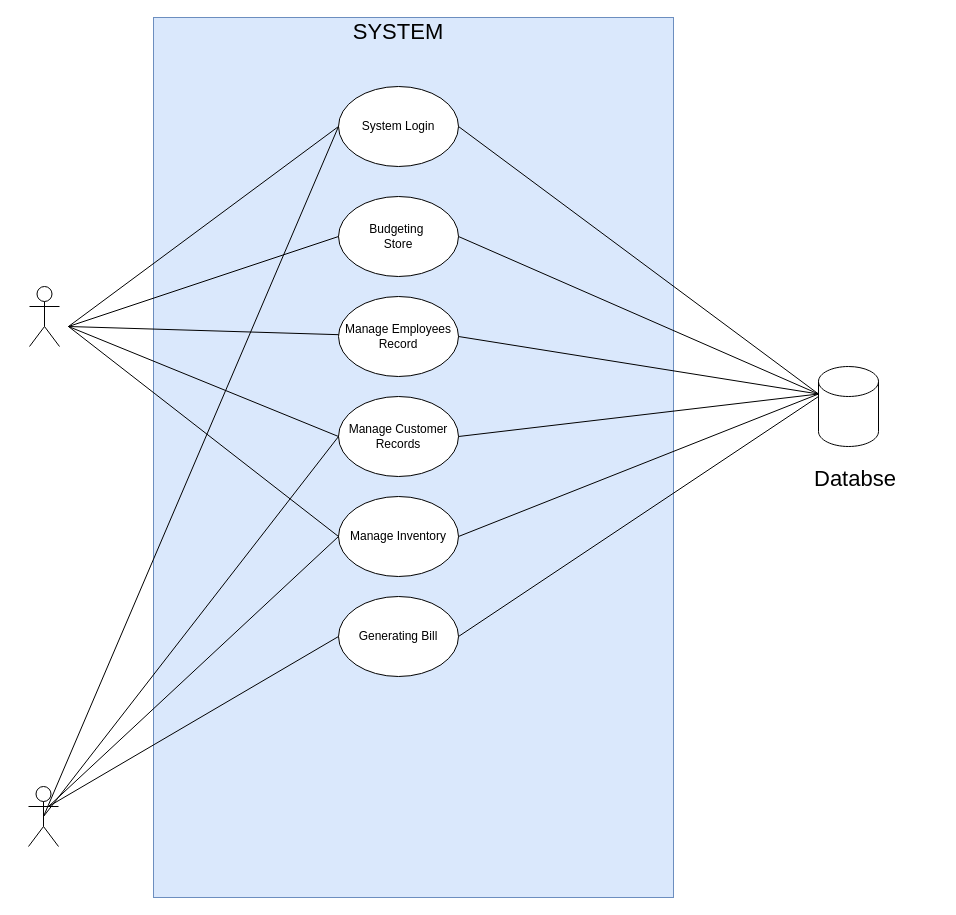
The diagram is 956 pixels wide and 915 high, and some of its shapes have lost their labels. Here are the shapes that lost their labels. From the top down, the box of each, then its label:
(28, 286, 60, 346): Admin
(28, 786, 58, 846): Employee
